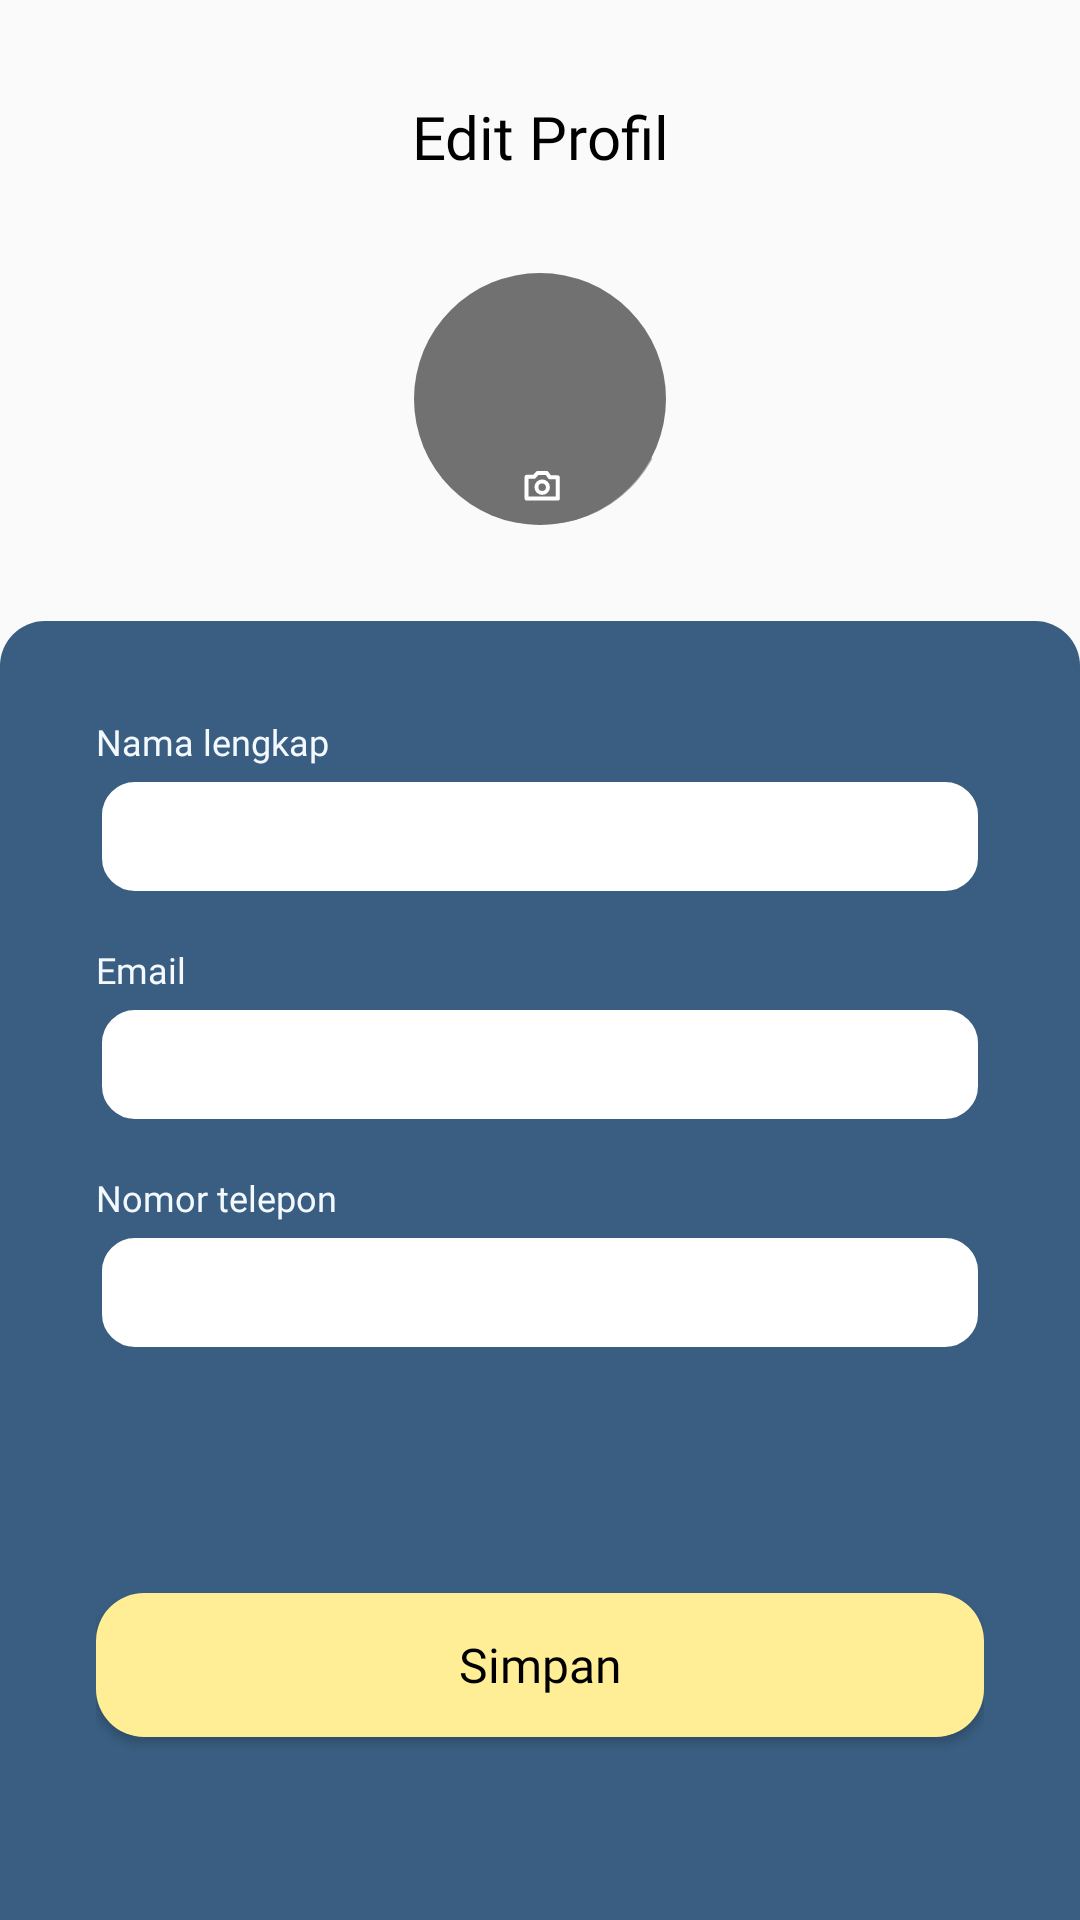

Screen size 1080*1920. Icon name, then its center in pixels as (x,y):
noprofile: (540,399)
